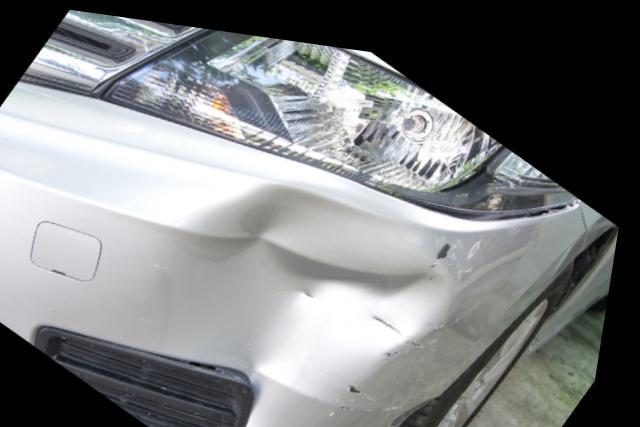dent: (152, 174, 454, 378)
scratch: (434, 208, 526, 320), (342, 367, 417, 406)
